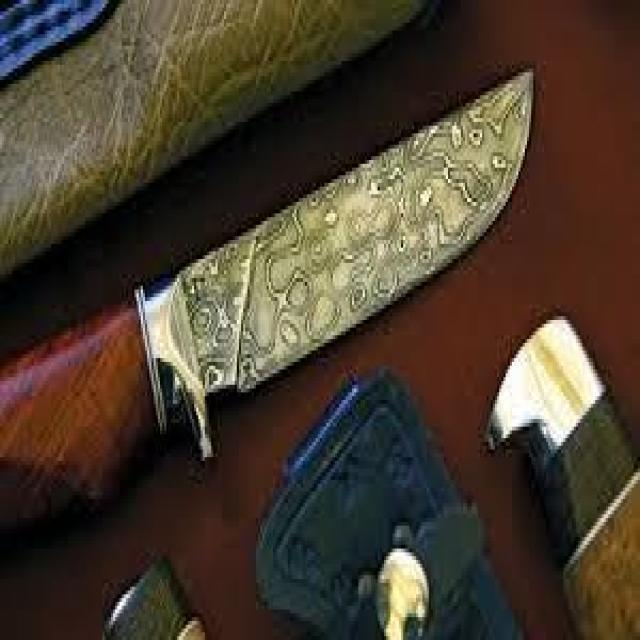Knife: (0, 43, 544, 522)
